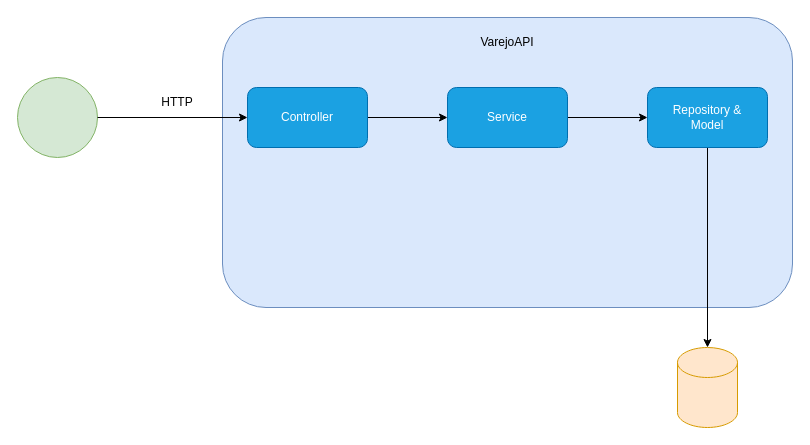
This 810x445 diagram has some shape labels left out. The shapes that lost their labels are listed below. From the top down, each one's centre as x and y in pixels, then its label:
(x=57, y=117): Client
(x=707, y=387): DB
